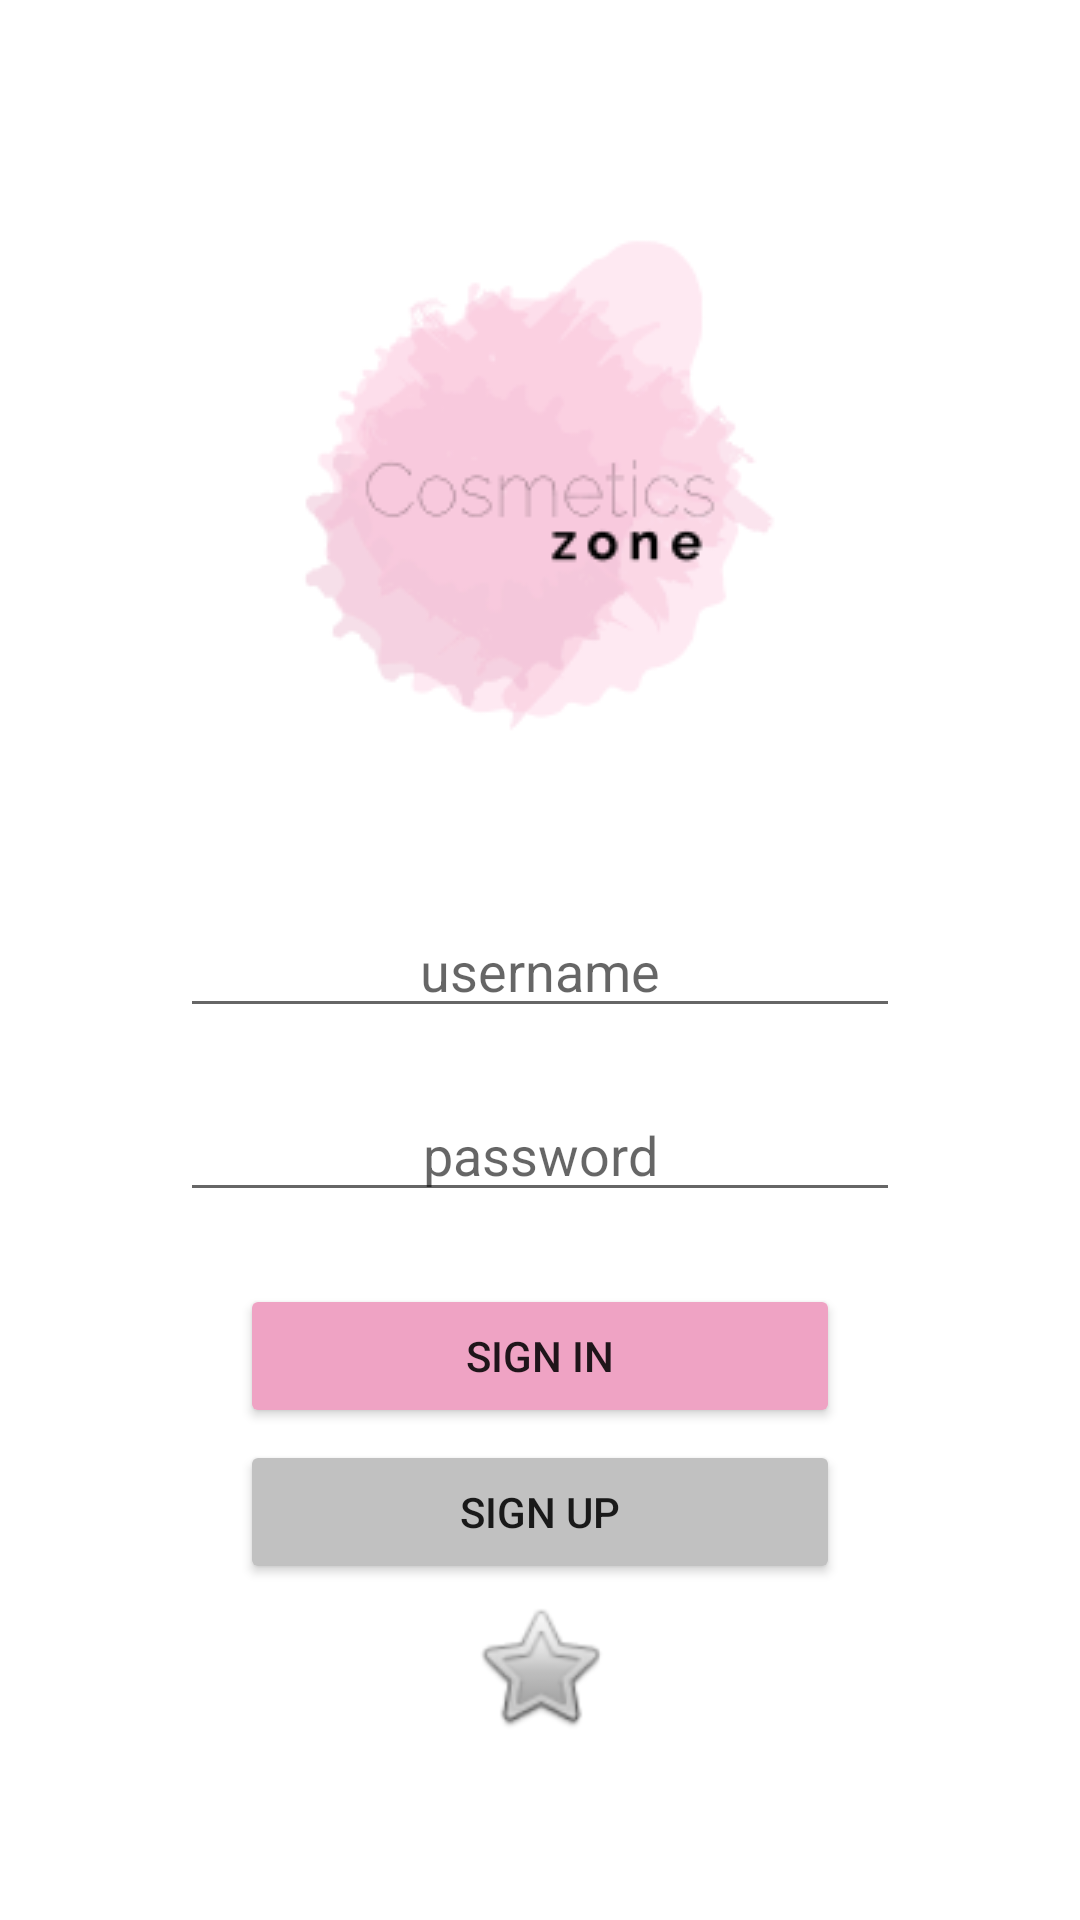

Icons on this 1080px×1920px Android screen, each with the point to tap as point (x, y):
star: point (541, 1667)
